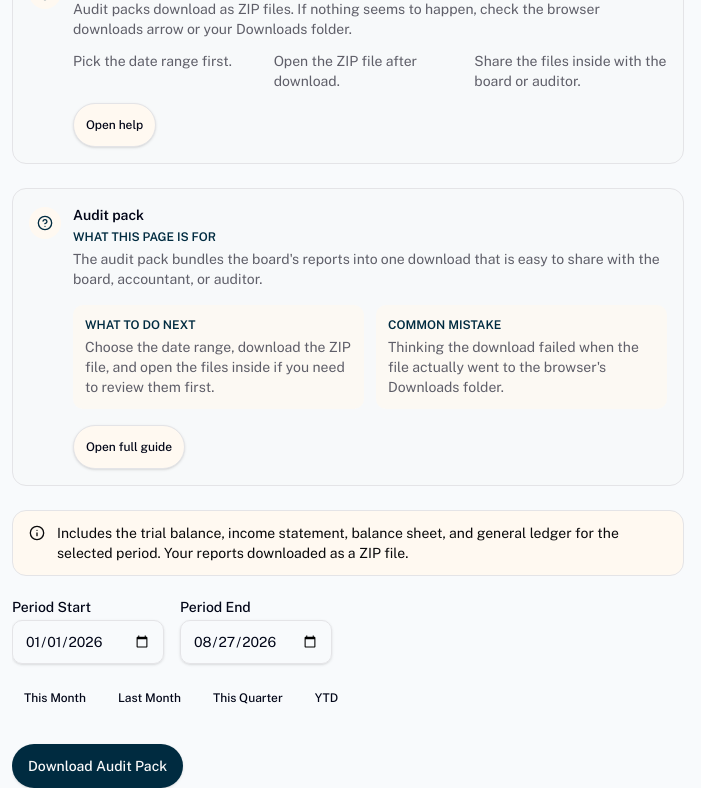
it: reports analytics › tracks audit pack download failures without raw error text
(page scrolled)
Click the button "Download Audit Pack".
click(98, 766)  # box x1=12 y1=744 x2=183 y2=787
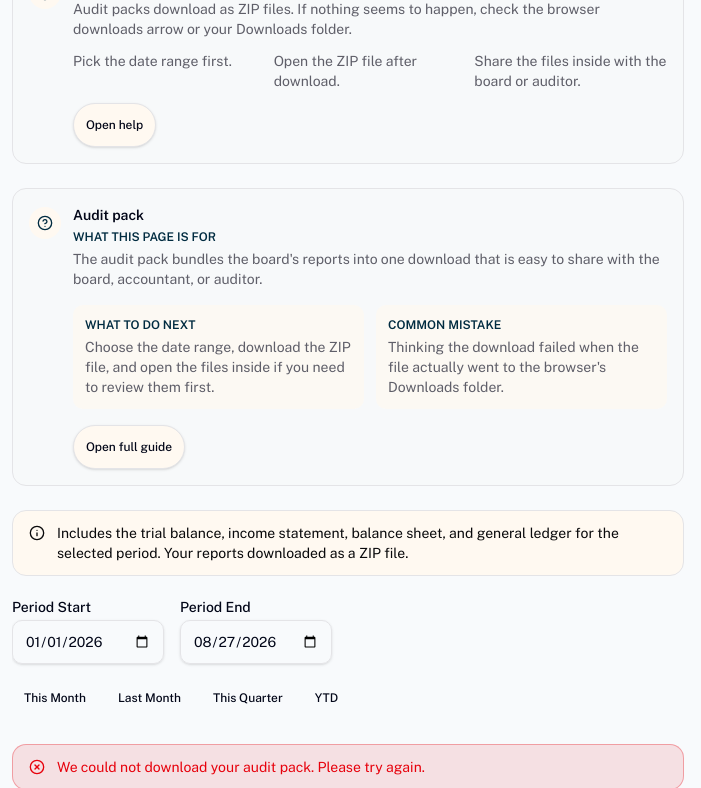
Check: the text "We could not download your audit pack. Please try again." is shown, box x1=57 y1=759 x2=425 y2=775
